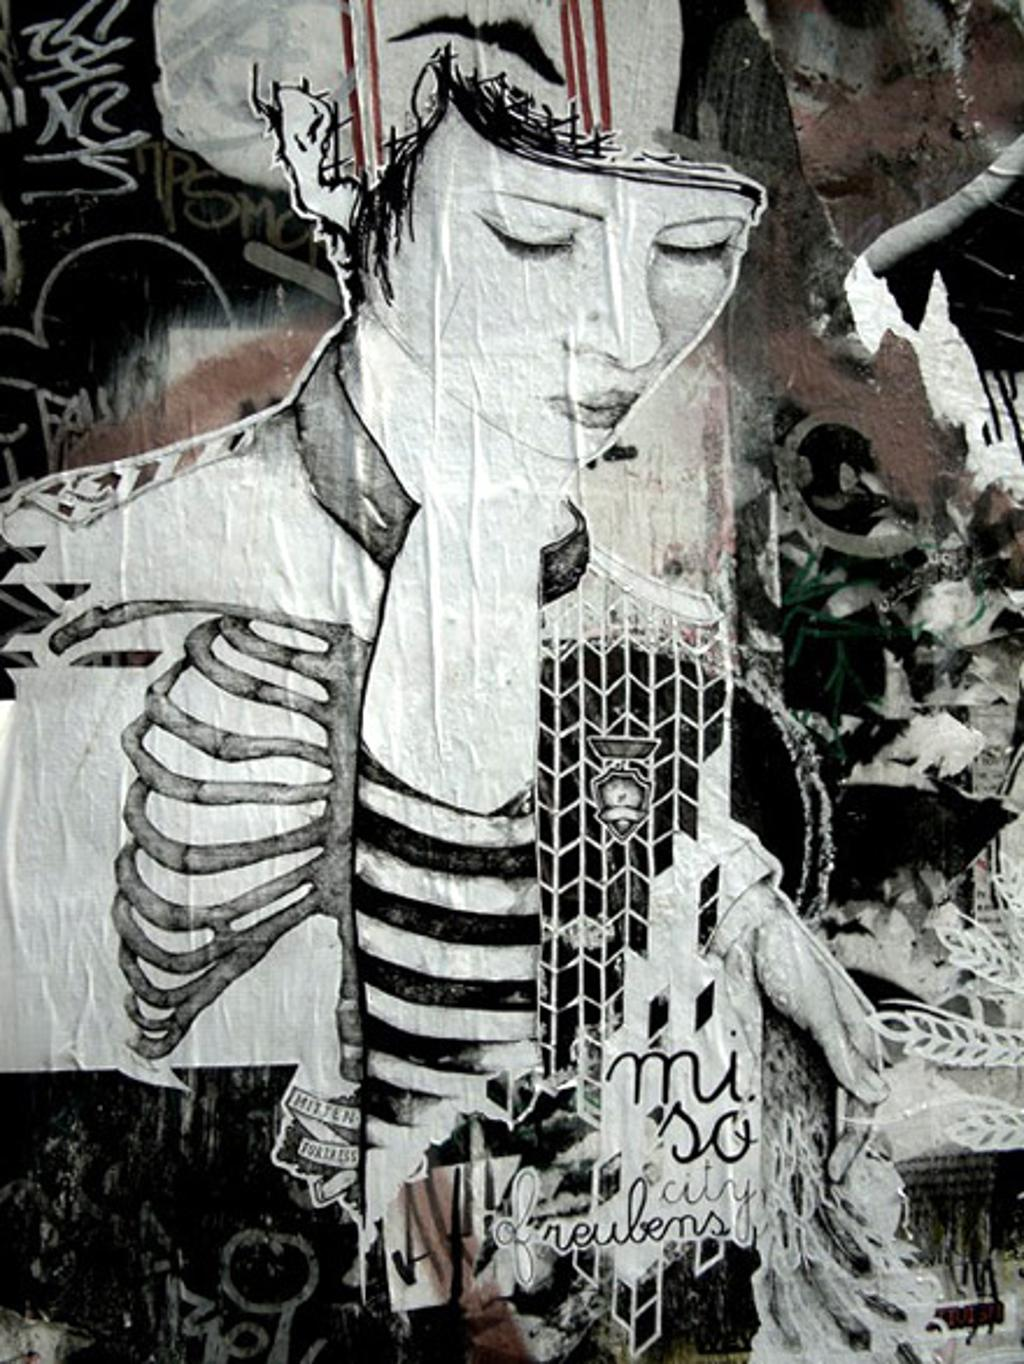face: (456, 88, 744, 464)
